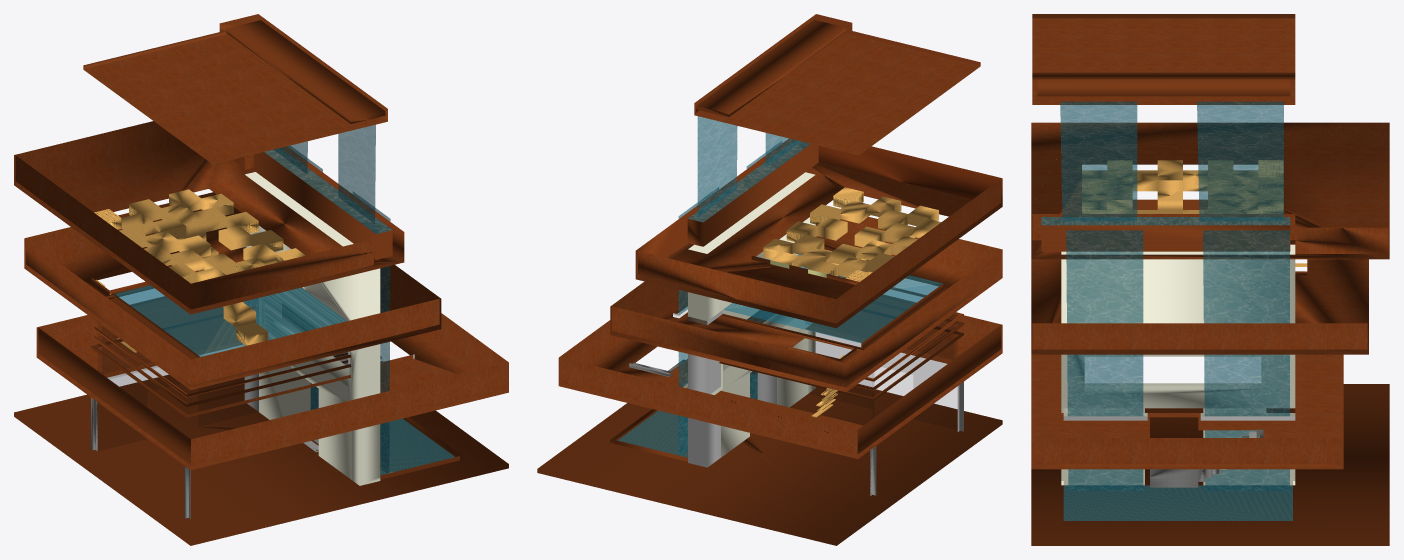
The picture shows the model from 3 angles, left to right: view 1: azimuth 30°, elevation 25°; view 2: azimuth 150°, elevation 25°; view 3: azimuth 270°, elevation 25°; orthographic projection. The views are drawn at different scales.
Parts seen in each view (by area): view 1: Mesh2, Mesh1; view 2: Mesh2, Mesh1; view 3: Mesh2, Mesh1.
Part boxes in pixels (left/top/right/bottom): Mesh2: left=14, top=14, right=508, bottom=545; Mesh1: left=115, top=124, right=454, bottom=474; Mesh2: left=537, top=14, right=1002, bottom=545; Mesh1: left=618, top=116, right=942, bottom=457; Mesh2: left=1031, top=14, right=1389, bottom=545; Mesh1: left=1041, top=101, right=1292, bottom=520.
Size of what is drawn, in the model's own units: 15.4 by 17.97 by 14.8.
11 materials, 6 textured.
